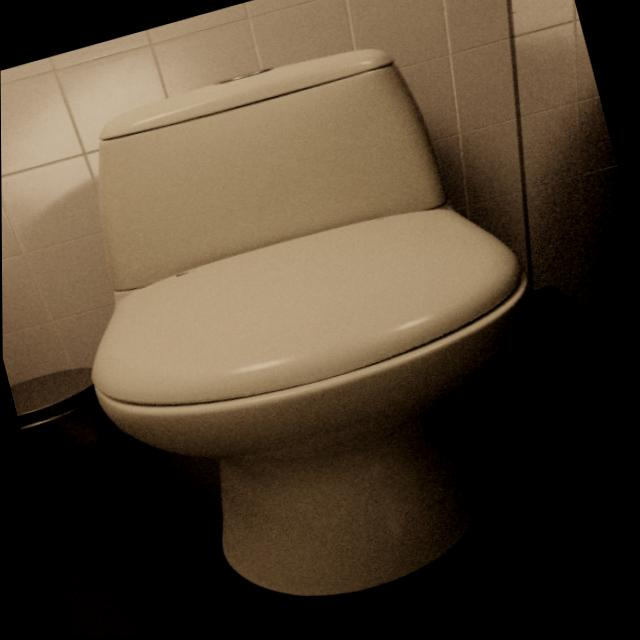toilet: (25, 12, 592, 639)
